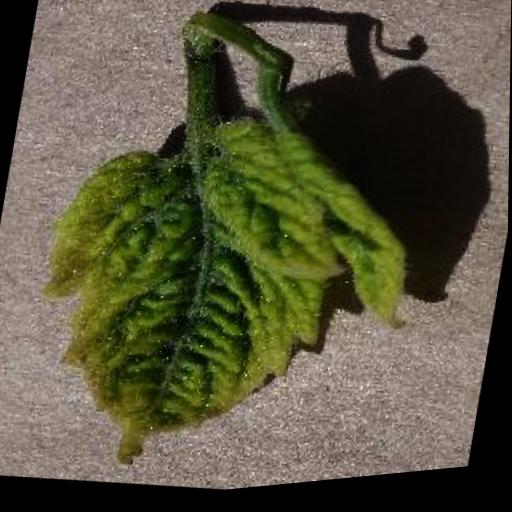Yellow Leaf Curl Virus: (17, 77, 439, 510)
